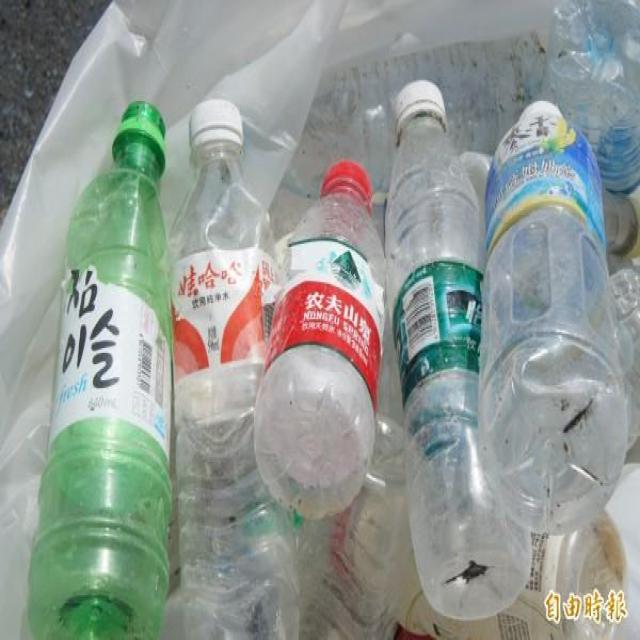bottle: (375, 74, 526, 622), (160, 91, 292, 640)
